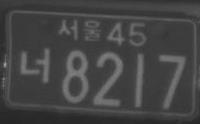1: (126, 51, 153, 108)
2: (92, 50, 125, 108)
4: (105, 19, 126, 47)
5: (127, 20, 148, 48)
7: (156, 52, 188, 111)
8: (60, 48, 90, 104)
너: (18, 46, 52, 84)
서울_O: (57, 18, 102, 43)
